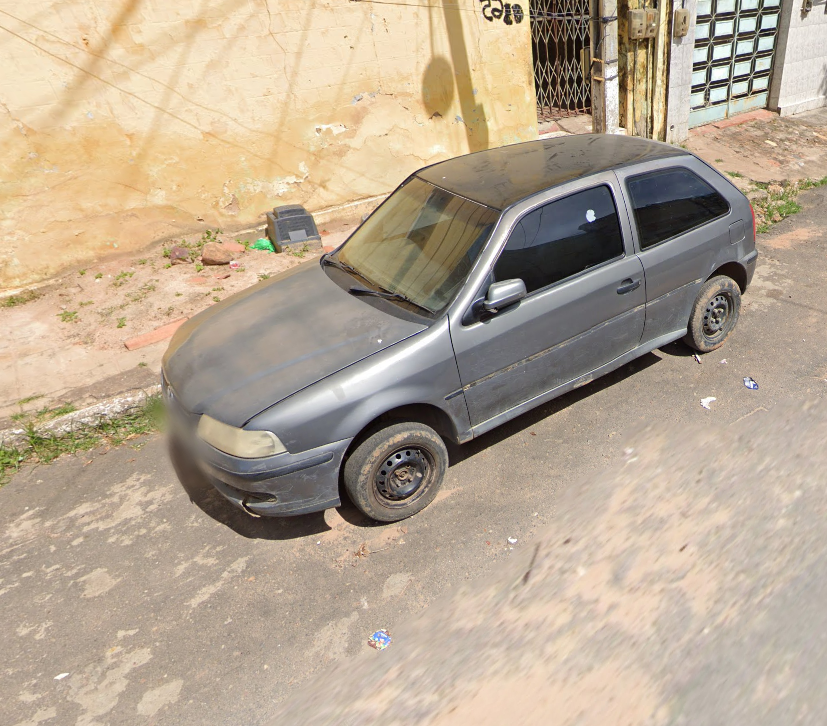car: (149, 127, 766, 540)
